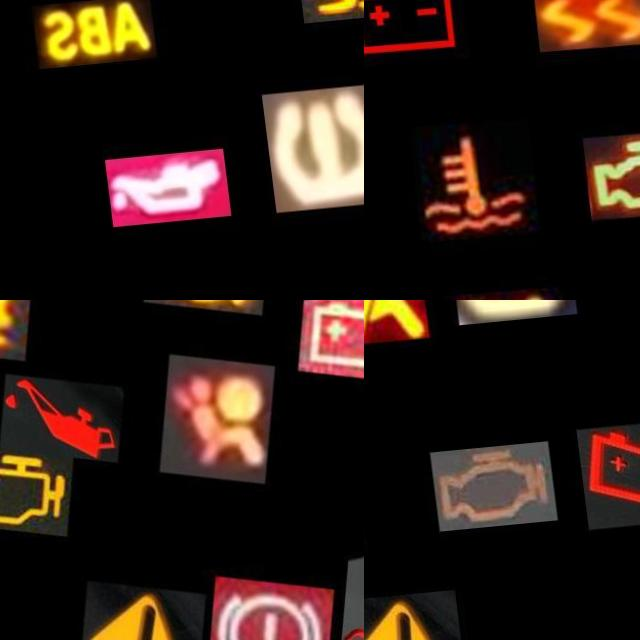Central Warning lamp: (51, 576, 205, 640), (364, 593, 455, 640)
Engine cooling system: (403, 124, 534, 250), (315, 552, 364, 640)
